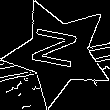N_E: (30, 28, 87, 77)
